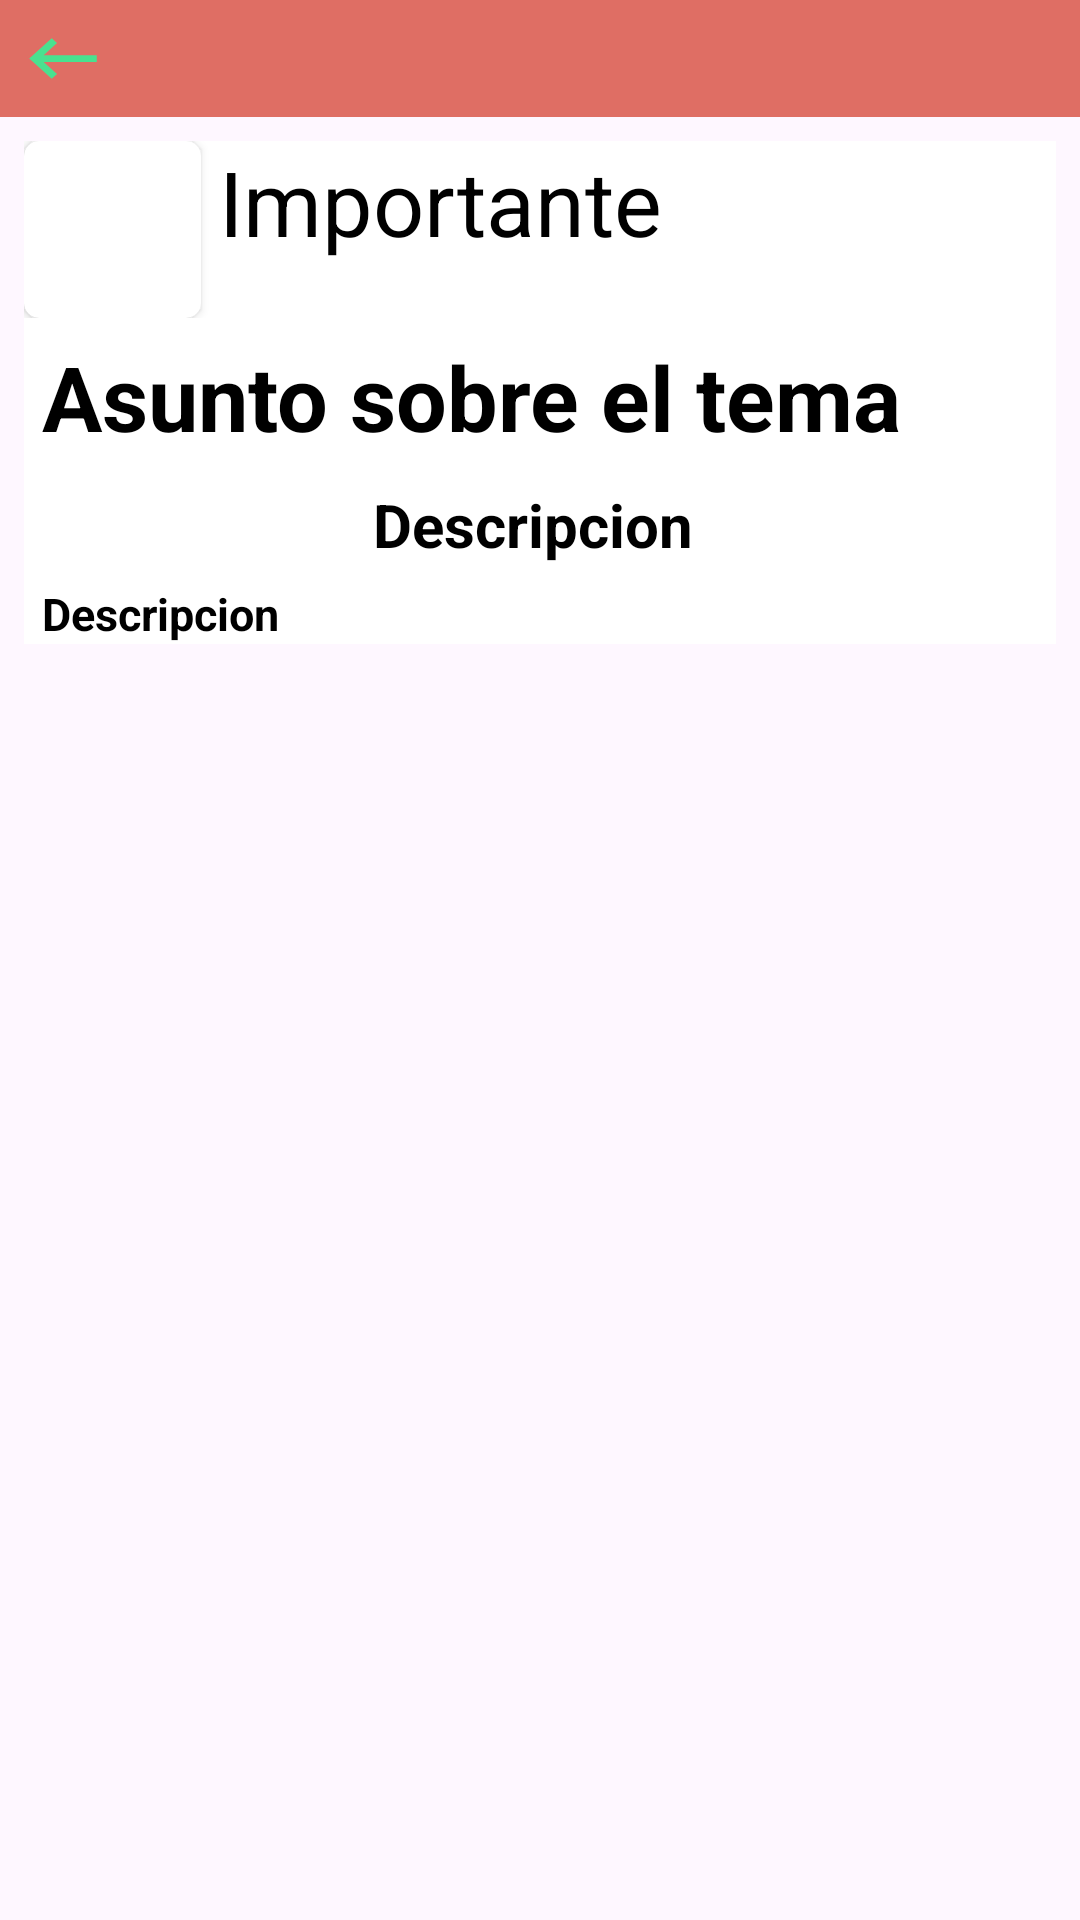

Locate icon controls on the screen. Image size 1080*1920, boxes as (x1, y1, x2, y2).
keyboard backspace: (29, 38, 97, 79)
